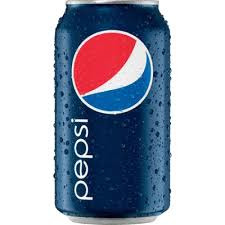pepsi: (54, 1, 173, 225)
